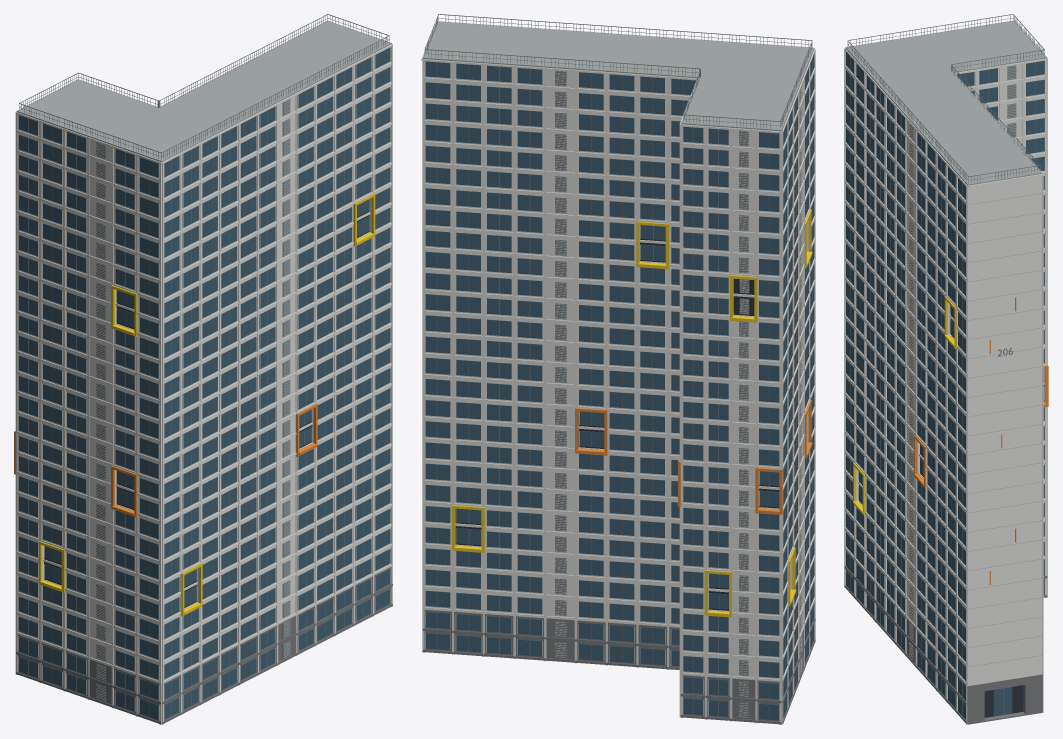
File: bespoke-songpa-helio-city-206.glb
3 renders of one model, left to right at view 1: azimuth 30°, elevation 25°; view 2: azimuth 150°, elevation 25°; view 3: azimuth 270°, elevation 25°, orthographic. The views are drawn at different scales.
Visible parts, largest first — view 1: Helio206_editable_Helio206_dark_blue_grey_glazing, Helio206_editable_Helio206_white_slab_frames, Helio206_editable_Helio206_grey_service_grille, Helio206_editable_Helio206_low_roof_deck, Helio206_editable_Helio206_dark_grey_twofloor_base, Helio206_editable_Helio206_blankwall_grey_panels, Helio206_editable_Helio206_yellow_projecting_rectangular_fra, Helio206_editable_Helio206_orange_narrow_accent; view 2: Helio206_editable_Helio206_dark_blue_grey_glazing, Helio206_editable_Helio206_white_slab_frames, Helio206_editable_Helio206_grey_service_grille, Helio206_editable_Helio206_low_roof_deck, Helio206_editable_Helio206_dark_grey_twofloor_base, Helio206_editable_Helio206_blankwall_grey_panels, Helio206_editable_Helio206_yellow_projecting_rectangular_fra, Helio206_editable_Helio206_orange_narrow_accent, Helio206_editable_Helio206_deep_shaded_frame_recess; view 3: Helio206_editable_Helio206_white_slab_frames, Helio206_editable_Helio206_dark_blue_grey_glazing, Helio206_editable_Helio206_low_roof_deck, Helio206_editable_Helio206_grey_service_grille, Helio206_editable_Helio206_dark_grey_twofloor_base, Helio206_editable_Helio206_blankwall_grey_panels, Helio206_editable_Helio206_yellow_projecting_rectangular_fra, Helio206_editable_Helio206_orange_narrow_accent, Helio206_editable_Helio206_deep_shaded_frame_recess.
Boxes of the visible parts, x1,y1,x2,y2 form: Helio206_editable_Helio206_dark_blue_grey_glazing: [18, 47, 390, 719]; Helio206_editable_Helio206_white_slab_frames: [15, 43, 392, 724]; Helio206_editable_Helio206_grey_service_grille: [19, 14, 389, 716]; Helio206_editable_Helio206_low_roof_deck: [16, 20, 391, 162]; Helio206_editable_Helio206_dark_grey_twofloor_base: [16, 567, 392, 724]; Helio206_editable_Helio206_blankwall_grey_panels: [96, 99, 290, 700]; Helio206_editable_Helio206_yellow_projecting_rectangular_fra: [38, 193, 375, 616]; Helio206_editable_Helio206_orange_narrow_accent: [14, 403, 317, 517]; Helio206_editable_Helio206_dark_blue_grey_glazing: [425, 54, 814, 720]; Helio206_editable_Helio206_white_slab_frames: [421, 22, 815, 724]; Helio206_editable_Helio206_grey_service_grille: [424, 14, 812, 719]; Helio206_editable_Helio206_low_roof_deck: [422, 21, 814, 131]; Helio206_editable_Helio206_dark_grey_twofloor_base: [422, 610, 815, 724]; Helio206_editable_Helio206_blankwall_grey_panels: [555, 71, 802, 717]; Helio206_editable_Helio206_yellow_projecting_rectangular_fra: [452, 209, 812, 617]; Helio206_editable_Helio206_orange_narrow_accent: [575, 400, 812, 514]; Helio206_editable_Helio206_deep_shaded_frame_recess: [455, 225, 779, 610]; Helio206_editable_Helio206_white_slab_frames: [844, 25, 1047, 724]; Helio206_editable_Helio206_dark_blue_grey_glazing: [846, 52, 1044, 718]; Helio206_editable_Helio206_low_roof_deck: [845, 20, 1046, 185]; Helio206_editable_Helio206_grey_service_grille: [847, 14, 1044, 715]; Helio206_editable_Helio206_dark_grey_twofloor_base: [844, 550, 1047, 724]; Helio206_editable_Helio206_blankwall_grey_panels: [909, 65, 1015, 658]; Helio206_editable_Helio206_yellow_projecting_rectangular_fra: [853, 296, 957, 515]; Helio206_editable_Helio206_orange_narrow_accent: [914, 297, 1048, 584]; Helio206_editable_Helio206_deep_shaded_frame_recess: [859, 314, 1044, 717].
Size of the model in its own units: 51.46 by 79.4 by 26.83.
